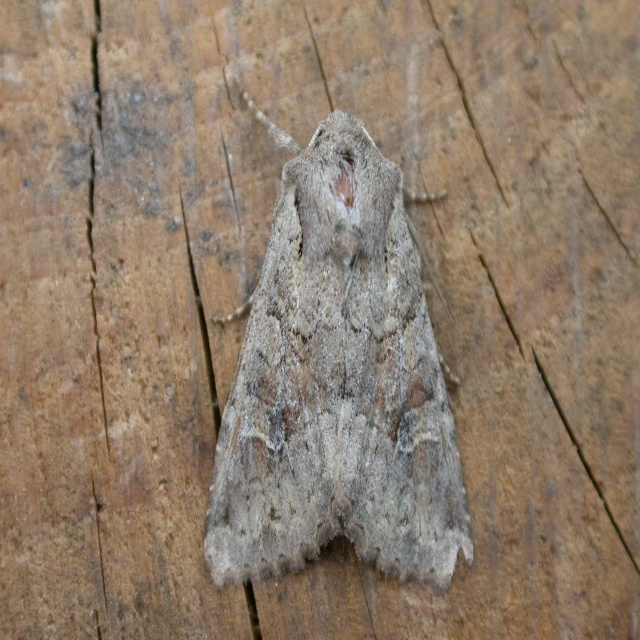Moths and butterflies: (200, 65, 480, 598)
